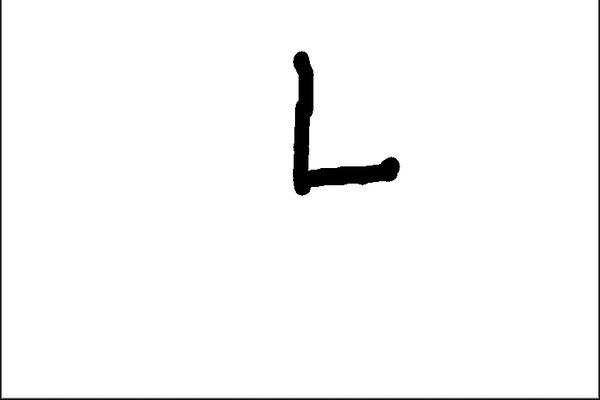L: (283, 42, 407, 204)
